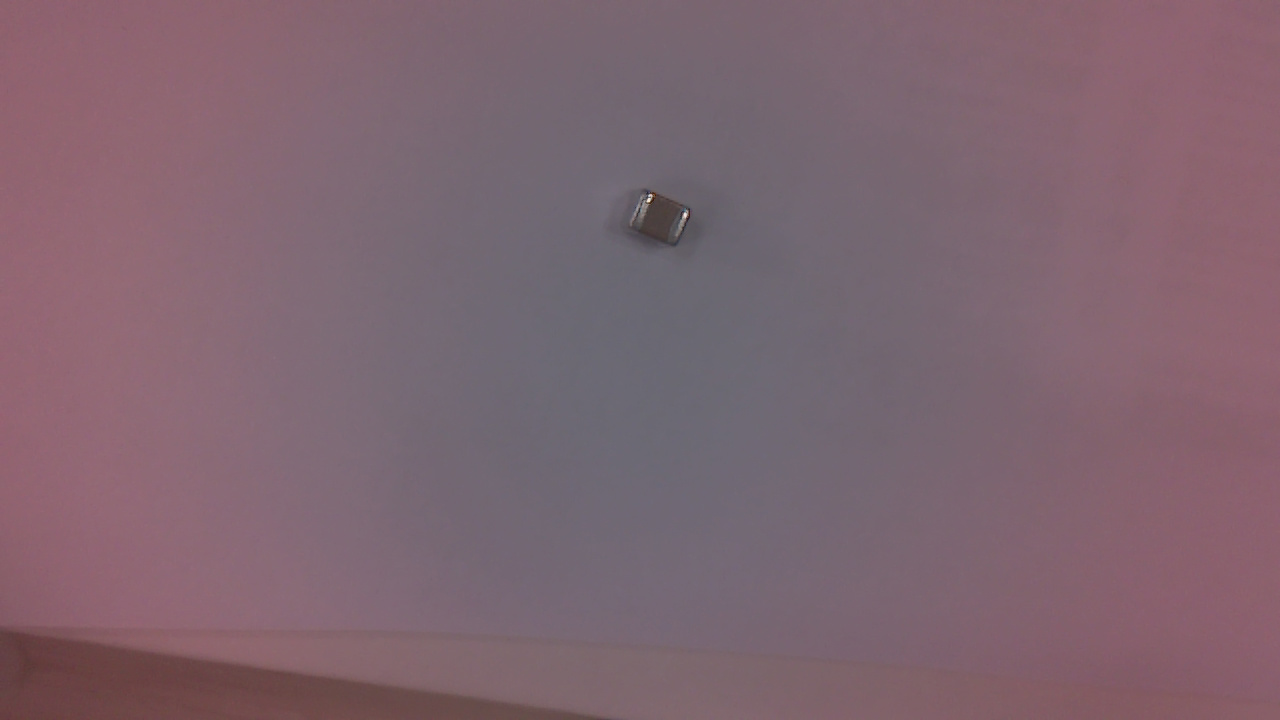Condensator: (628, 193, 699, 253)
